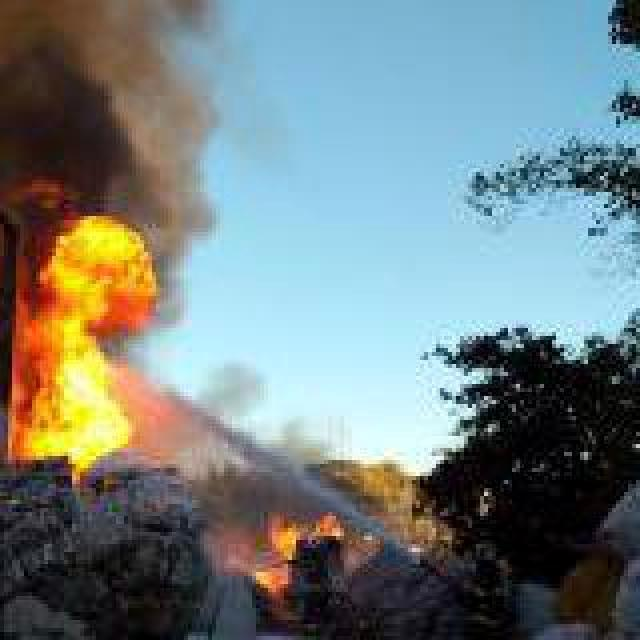smoke: (0, 0, 236, 188), (188, 332, 316, 492)
